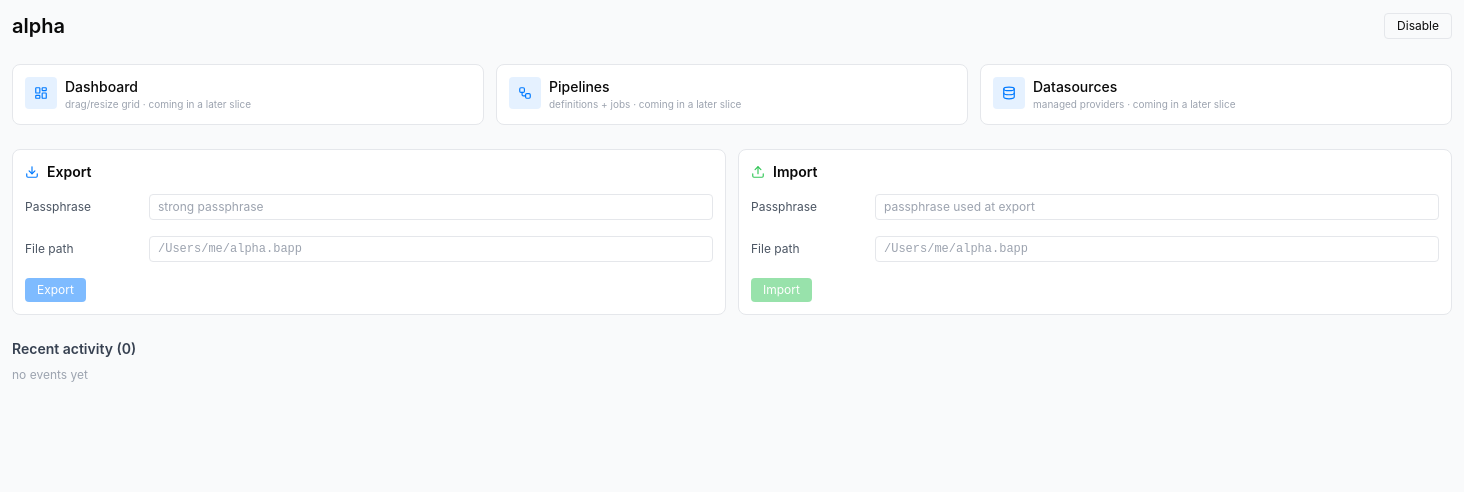
Test: <ApplicationOverview> import/export › Disable report lists pending rehydrations when snapshots were captured
Step 1. Click the button with test id "disable-app" → coordinates (1418, 26), box x1=1384 y1=13 x2=1452 y2=39
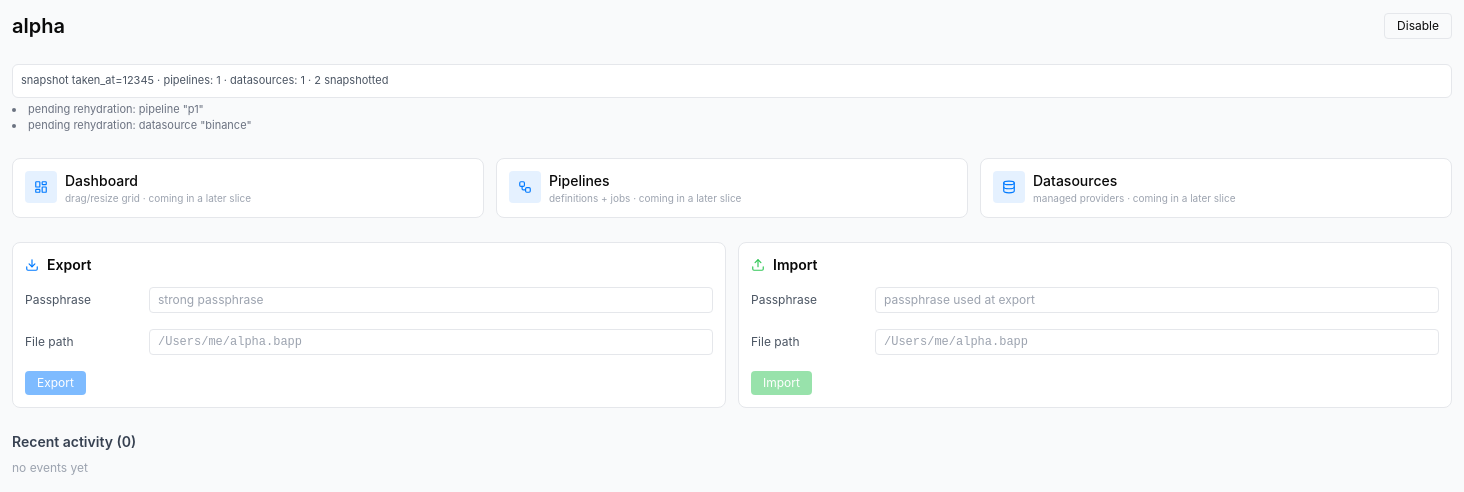
Check: the list with test id "pending-rehydrations" shows "pending rehydration: pipeline \"p1\"", box x1=28 y1=102 x2=252 y2=132
Check: the list with test id "pending-rehydrations" shows "pending rehydration: datasource \"binance\"", box x1=28 y1=102 x2=252 y2=132
